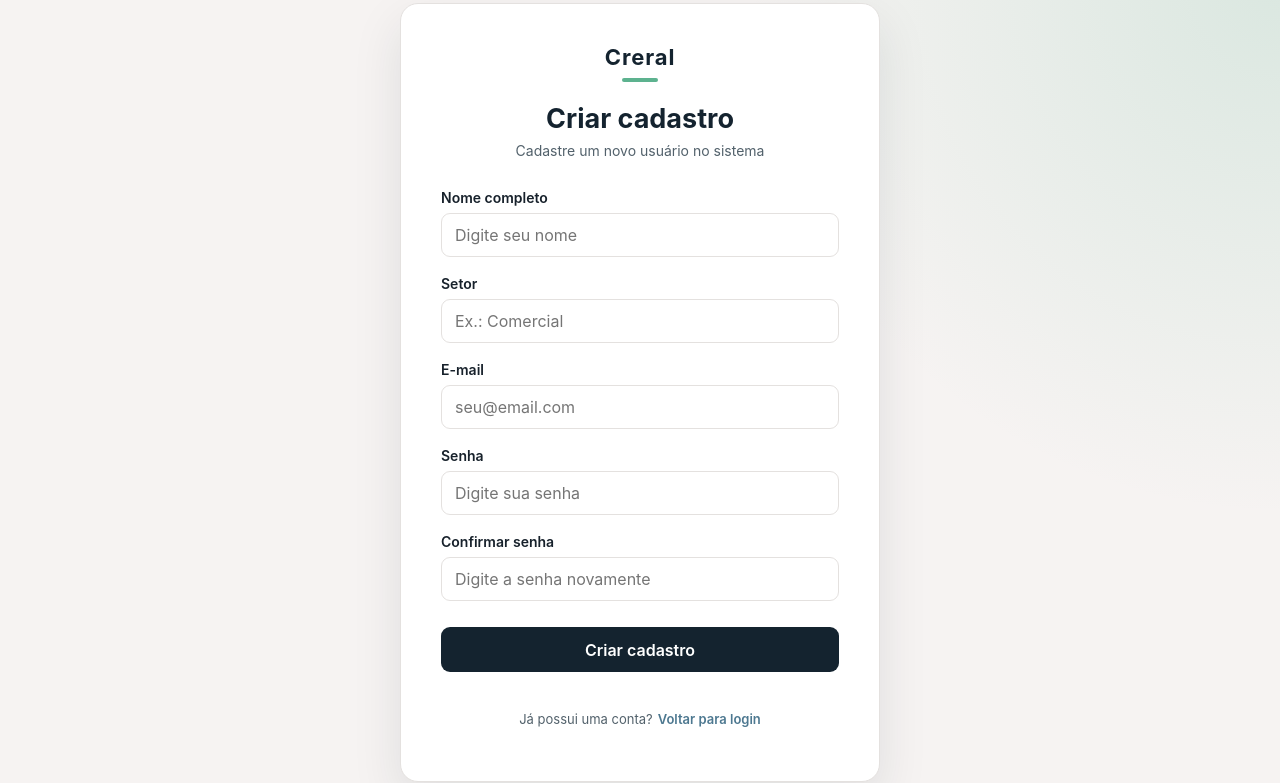
AUT-11/13: dois submits imediatos enviam uma vez, bloqueiam sete controles e erro libera o rascunho
The image size is (1280, 783).
Type " Ana " into the field labelled "Nome completo". click: (640,235)
box: [441, 213, 839, 257]
Type " Campo " into the field labelled "Setor". click: (640,321)
box: [441, 299, 839, 343]
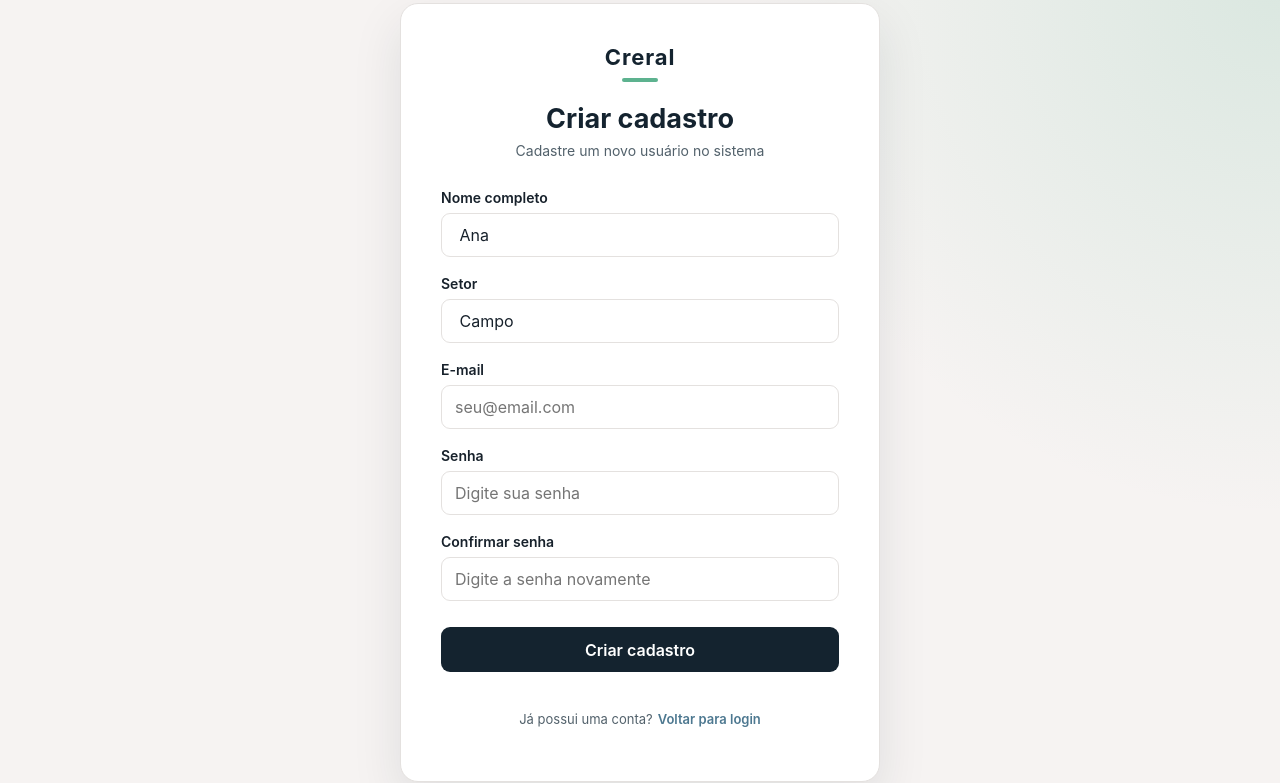
Type "ana@example.test" into the field labelled "E-mail". click: (640,407)
box: [441, 385, 839, 429]
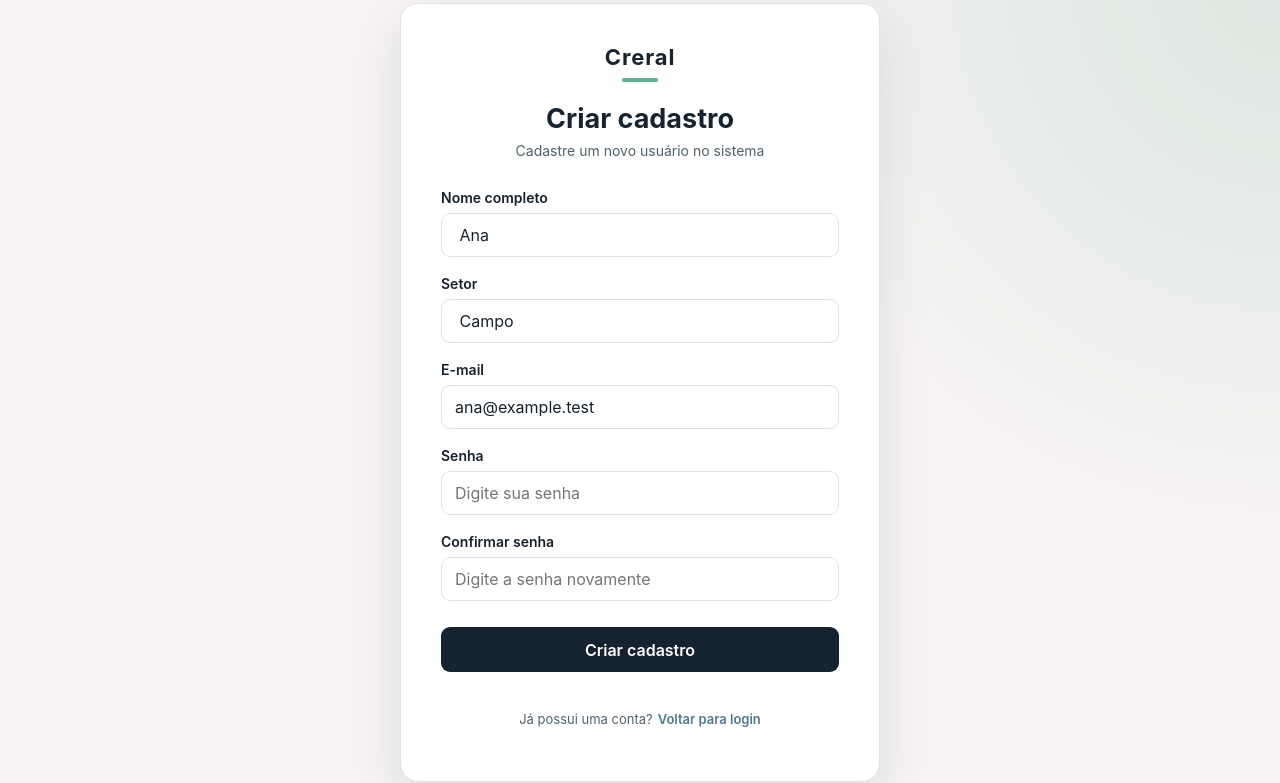
Type " 1234 " into the password field labelled "Senha". click: (640,493)
box: [441, 471, 839, 515]
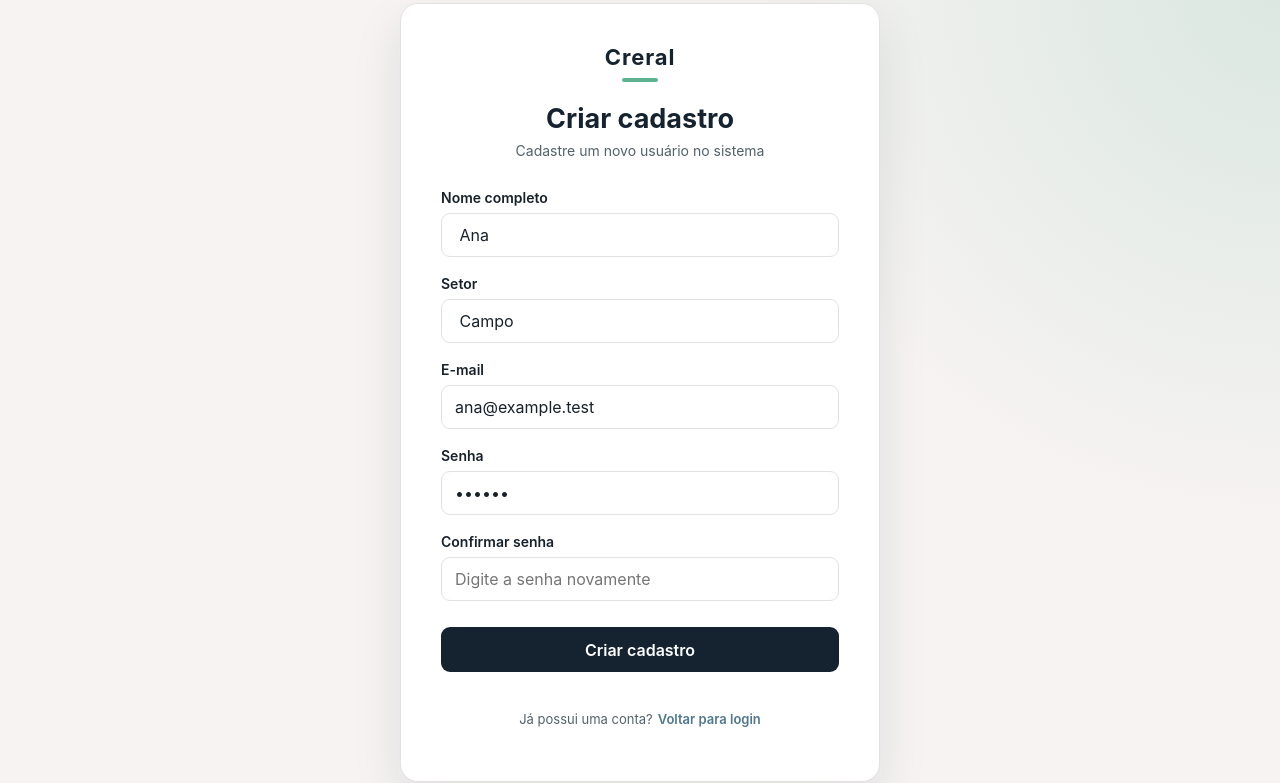
Type " 1234 " into the password field labelled "Confirmar senha". click: (640,579)
box: [441, 557, 839, 601]
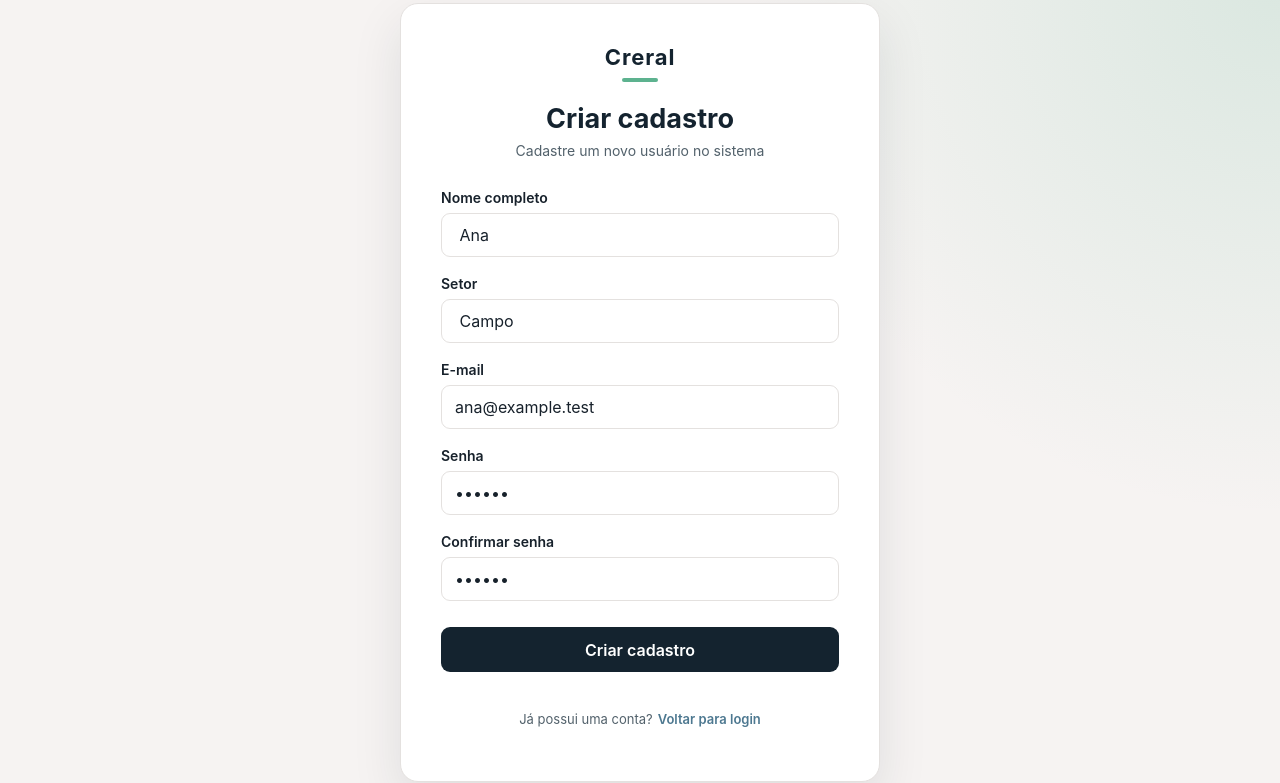
Submit the form "Criar cadastro", box [441, 189, 839, 672]
Submit the form "Criar cadastro", box [441, 189, 839, 672]
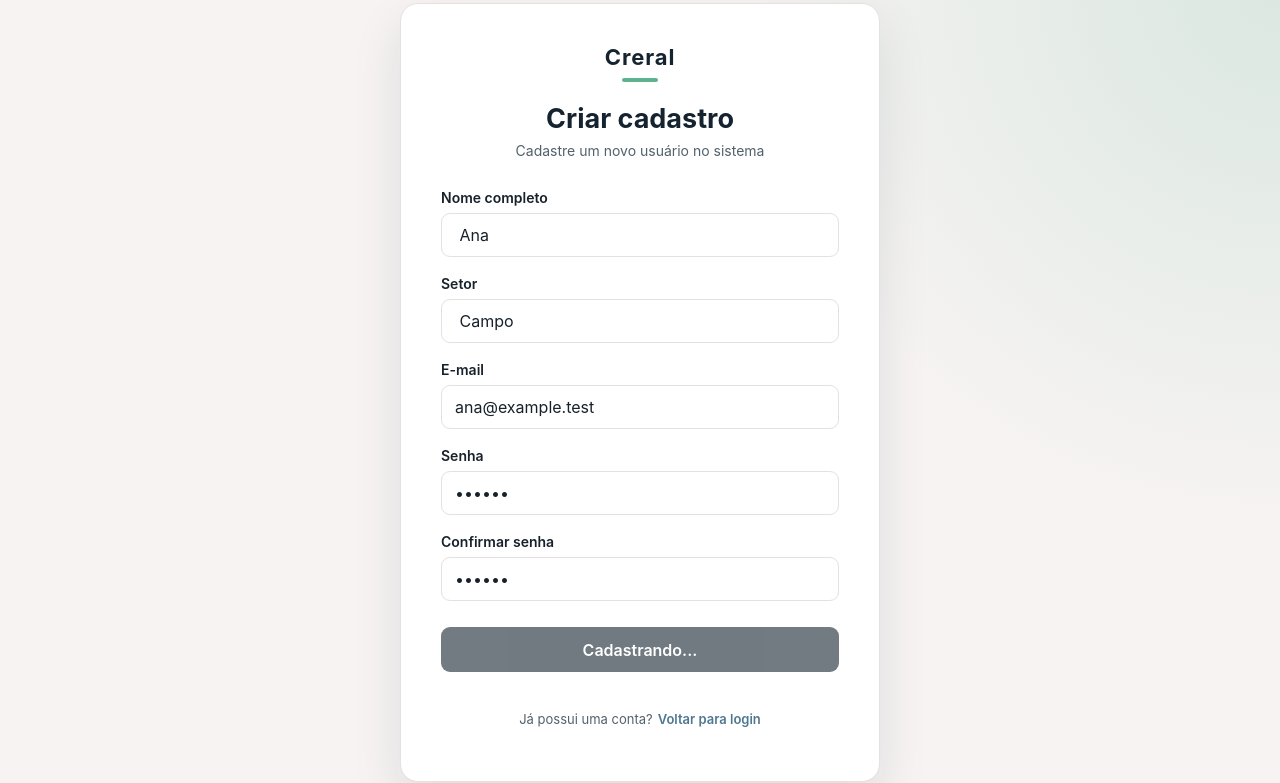
expect the field labelled "Nome completo" is disabled: met, box [441, 213, 839, 257]
expect the button "Cadastrando..." is disabled: met, box [441, 627, 839, 672]
Click the button "Voltar para login". click: (709,719)
box: [658, 697, 761, 741]
(page scrolled)
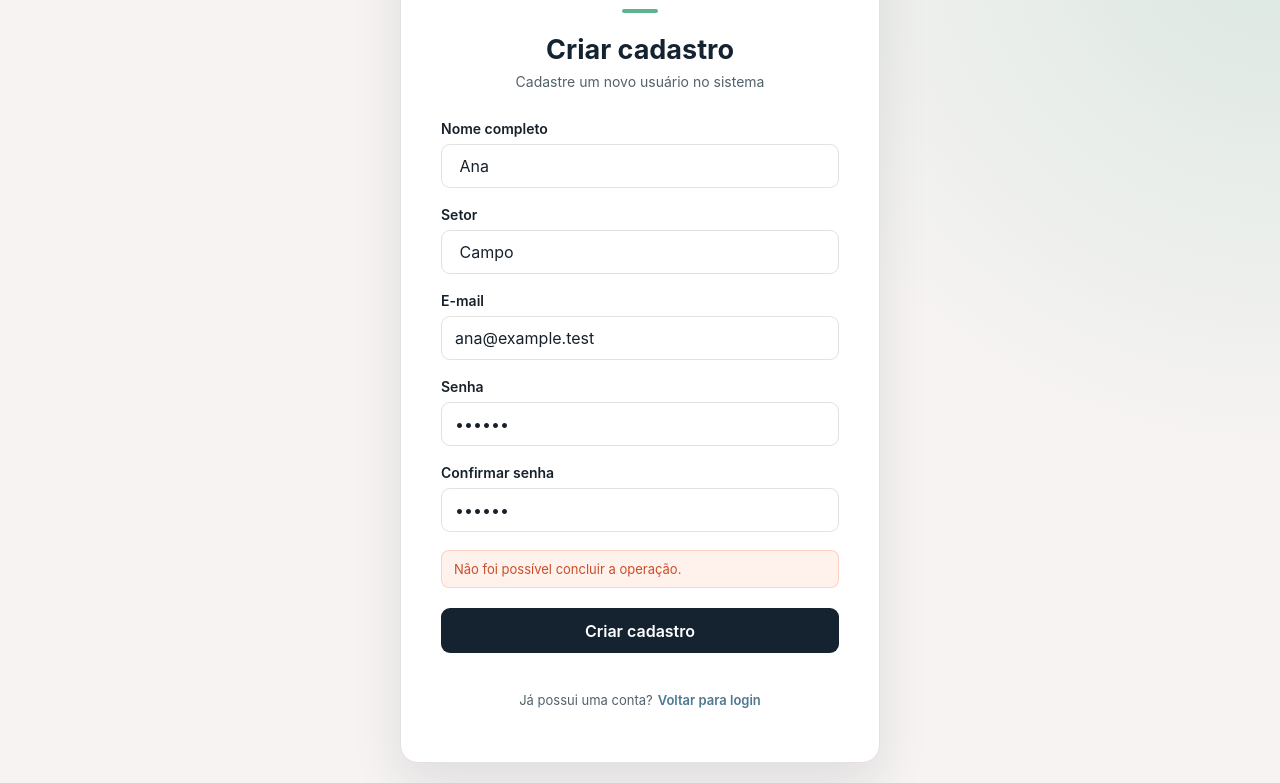
expect the message reads "Não foi possível concluir a operação.": met, box [454, 561, 681, 577]
expect the field labelled "Nome completo" is enabled: met, box [441, 144, 839, 188]
expect the field labelled "Setor" is enabled: met, box [441, 230, 839, 274]
